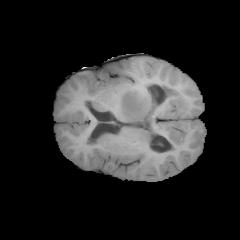glioma: (116, 88, 148, 121)
